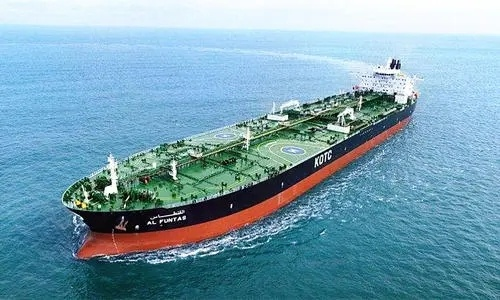Cargoship: (63, 51, 420, 254)
